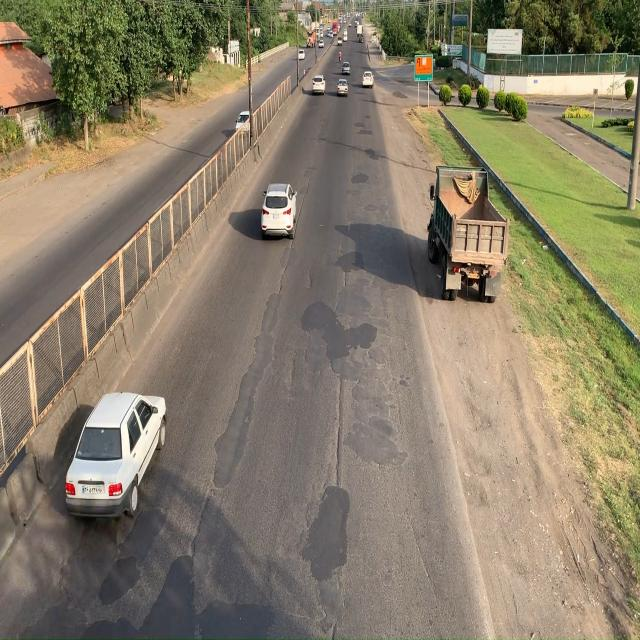Truck: (425, 160, 510, 303)
cars: (61, 389, 170, 524), (260, 177, 297, 242), (234, 101, 256, 145)
